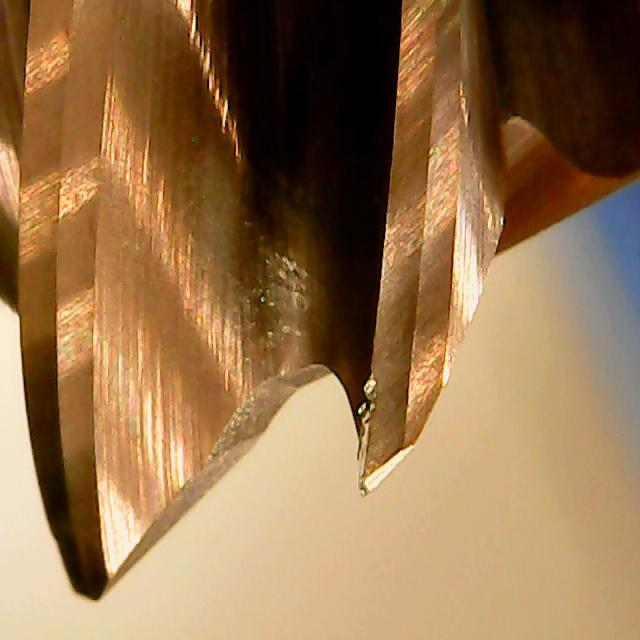Tool-wear-class-1: (348, 186, 450, 500)
